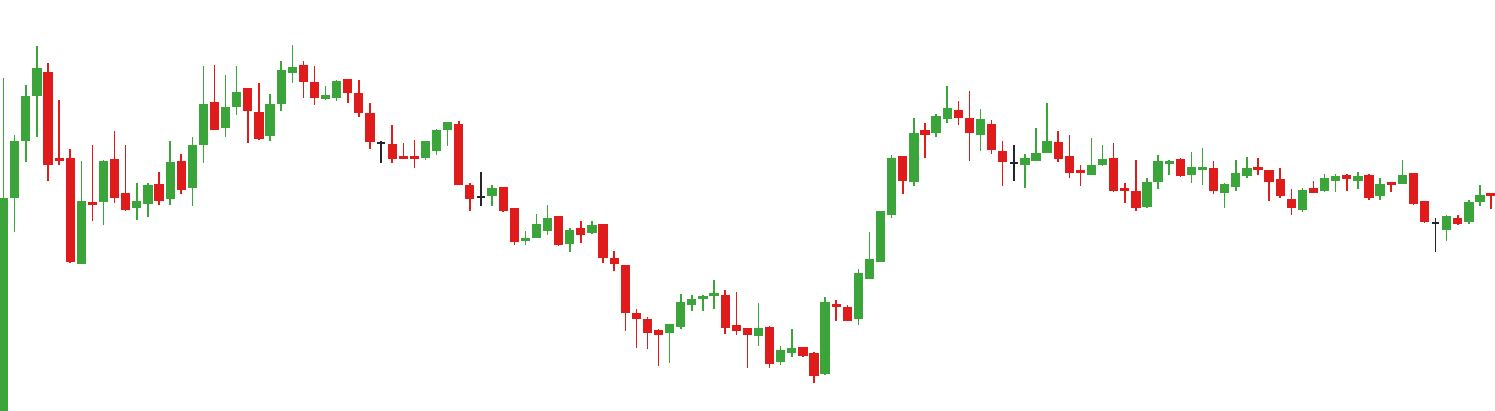sell: (232, 40, 309, 119)
